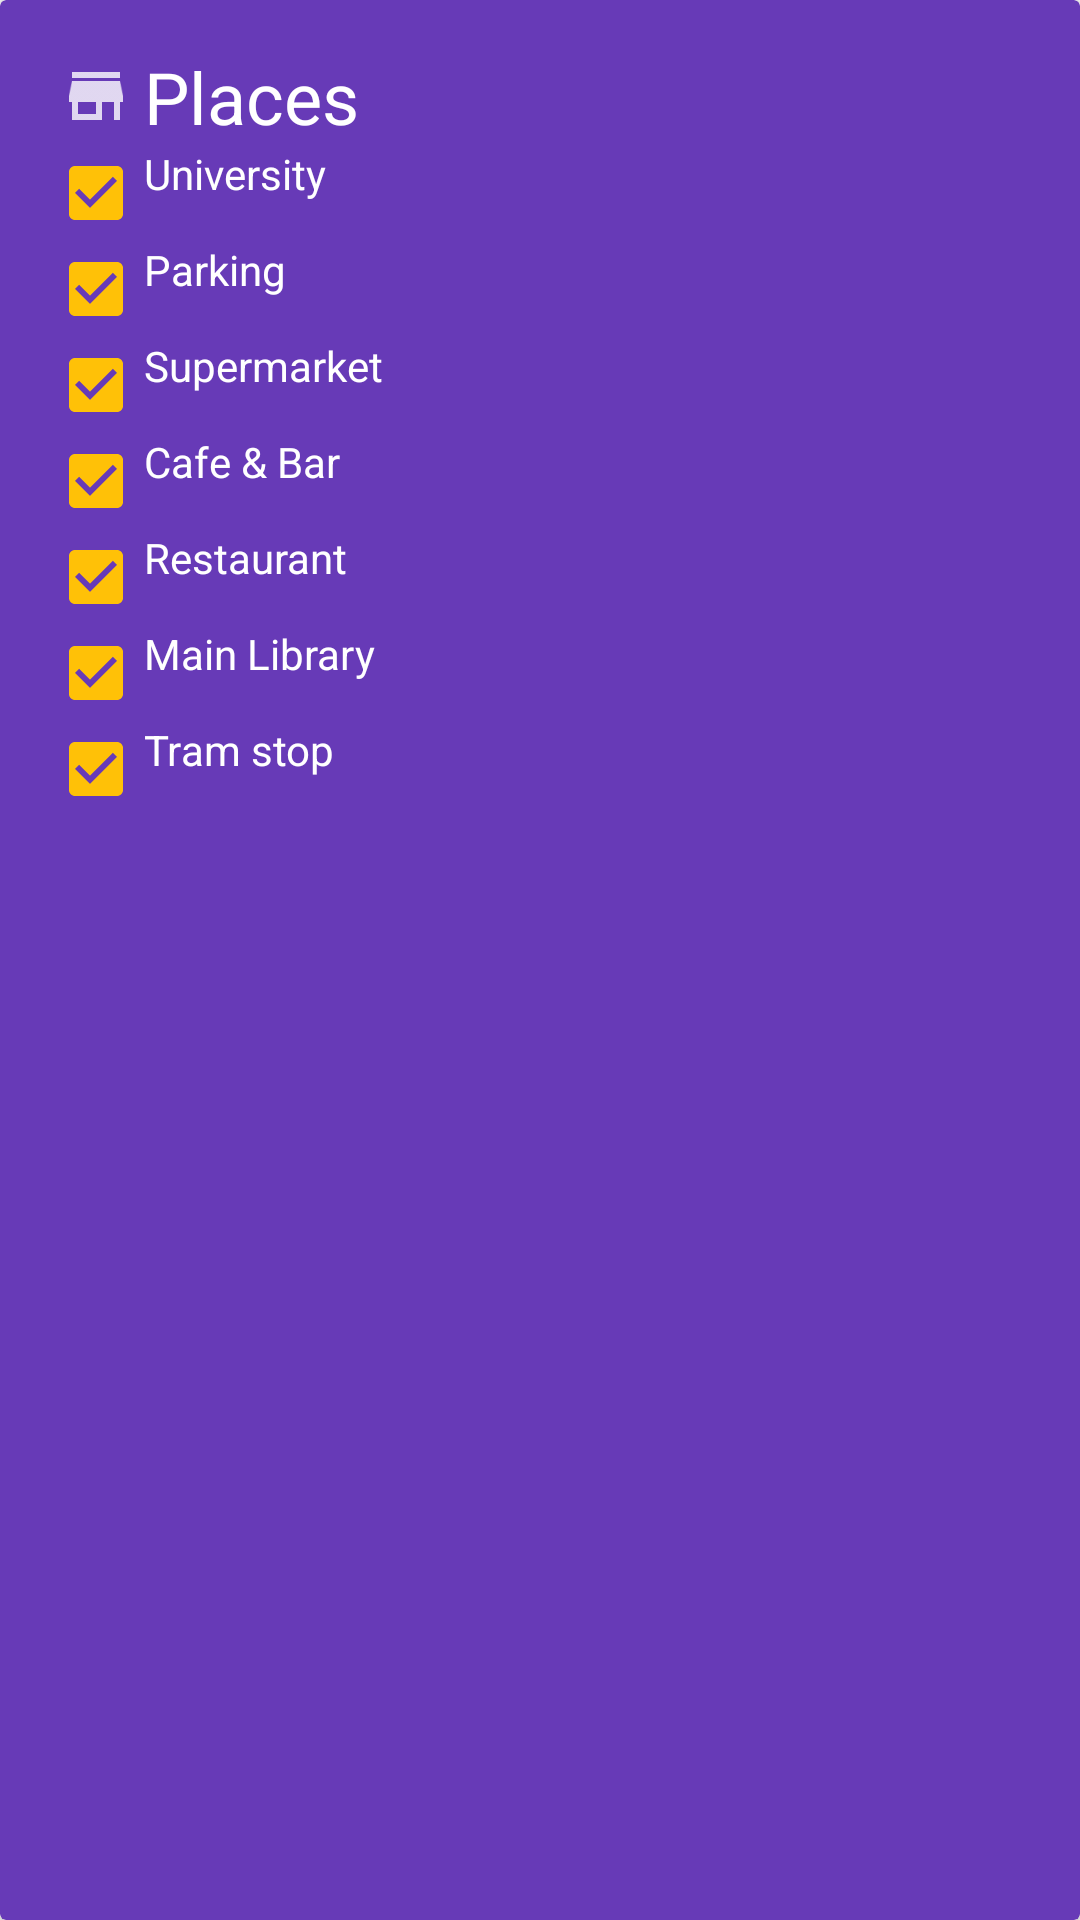

Where icons sit on this 1080x1920 app screen, as region(x1, y1, x2, y2):
shop: region(69, 72, 123, 120)
